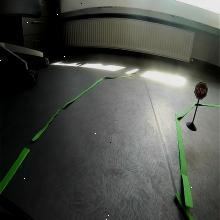stop: (195, 82, 208, 100)
